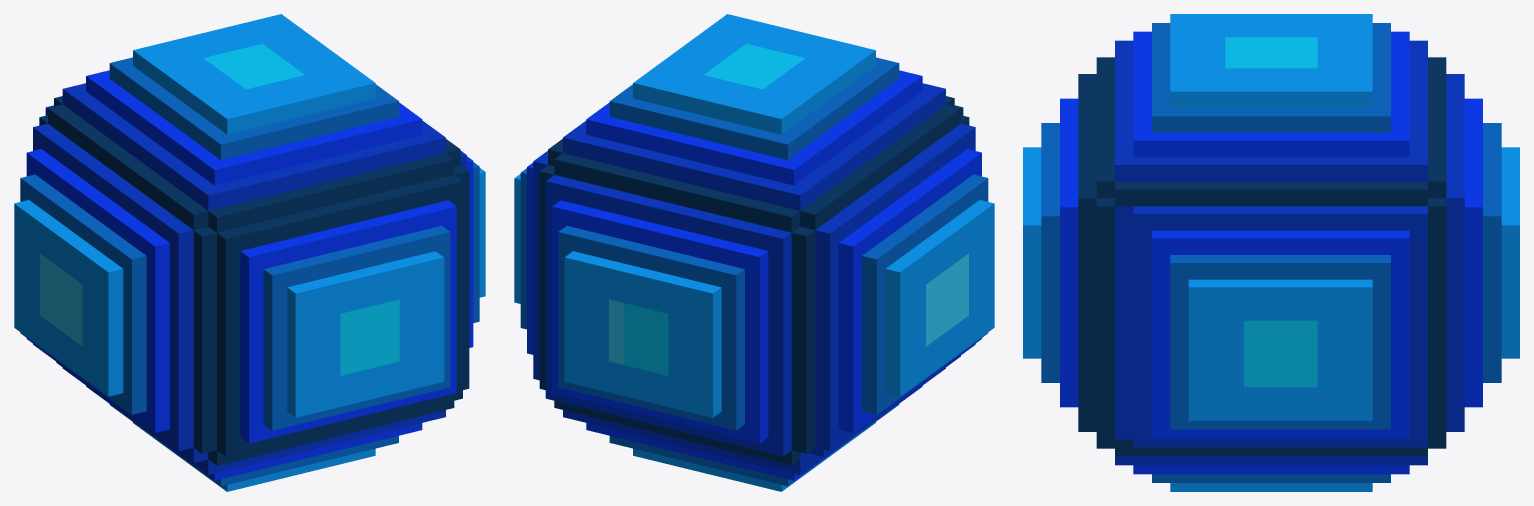
Rendered from bomber.obj.
3 views of the same model, side by side, from view 1: azimuth 30°, elevation 25°; view 2: azimuth 150°, elevation 25°; view 3: azimuth 270°, elevation 25° (orthographic). The views are drawn at different scales.
Bounding box in the file's own units: 2.6 × 2.4 × 2.7.
1 material, 1 textured.
